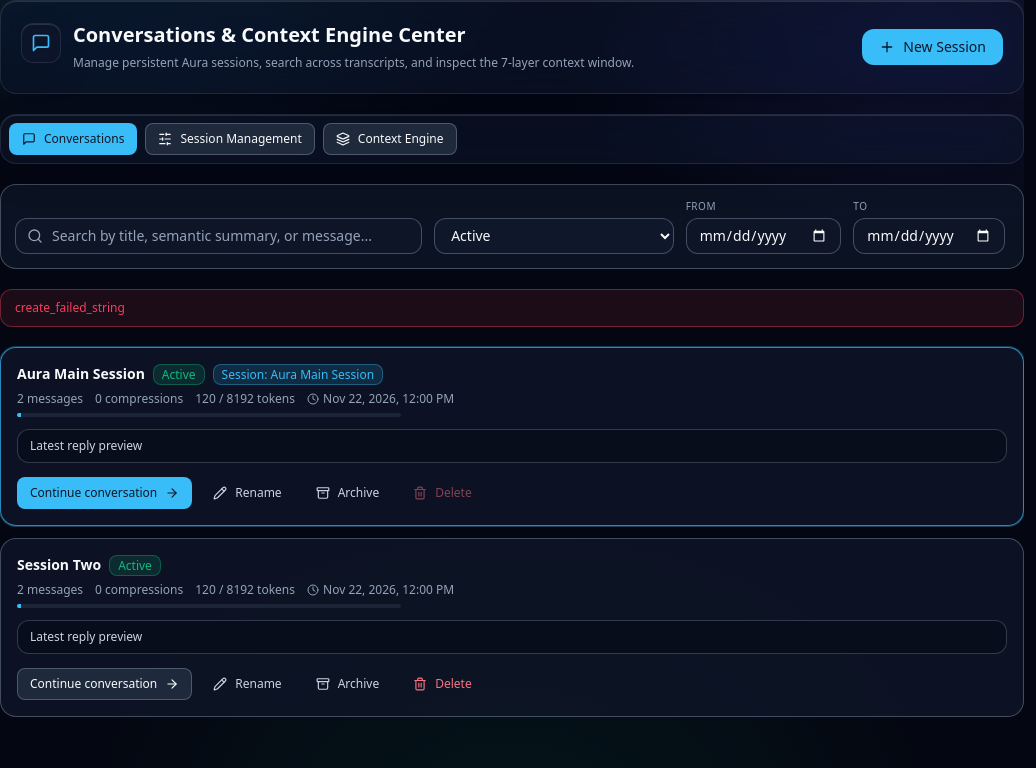
Test: SessionsCenterPage › removes archived session from active-filtered list and handles mutation/load errors cleanly
Earlier steps of the test are not shown.
Expected: the message reads "create_failed_string", x1=15 y1=298 x2=125 y2=316
Step 1. Click the button with test id "session-rename-s-2" → (248, 684), box x1=200 y1=668 x2=295 y2=700
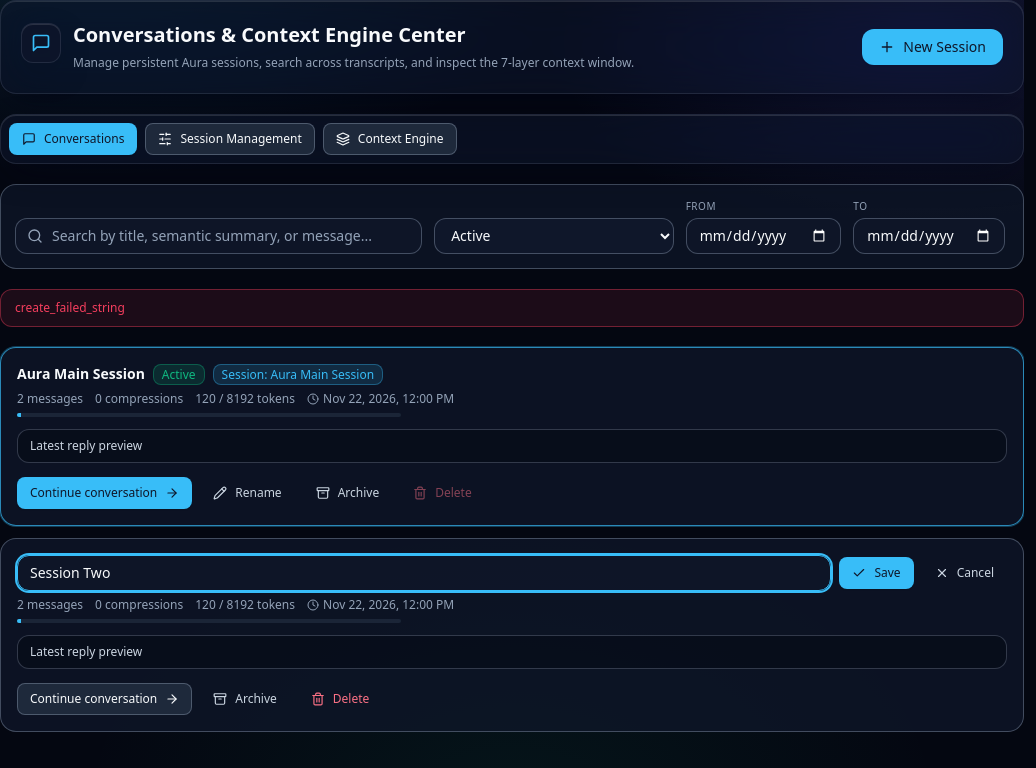
Step 2. Replace the text in the field with test id "session-rename-input-s-2" with "Bad Name" → (424, 572), box x1=17 y1=554 x2=832 y2=590
Step 3. Click the button with test id "session-rename-save-s-2" → (877, 572), box x1=840 y1=556 x2=914 y2=588
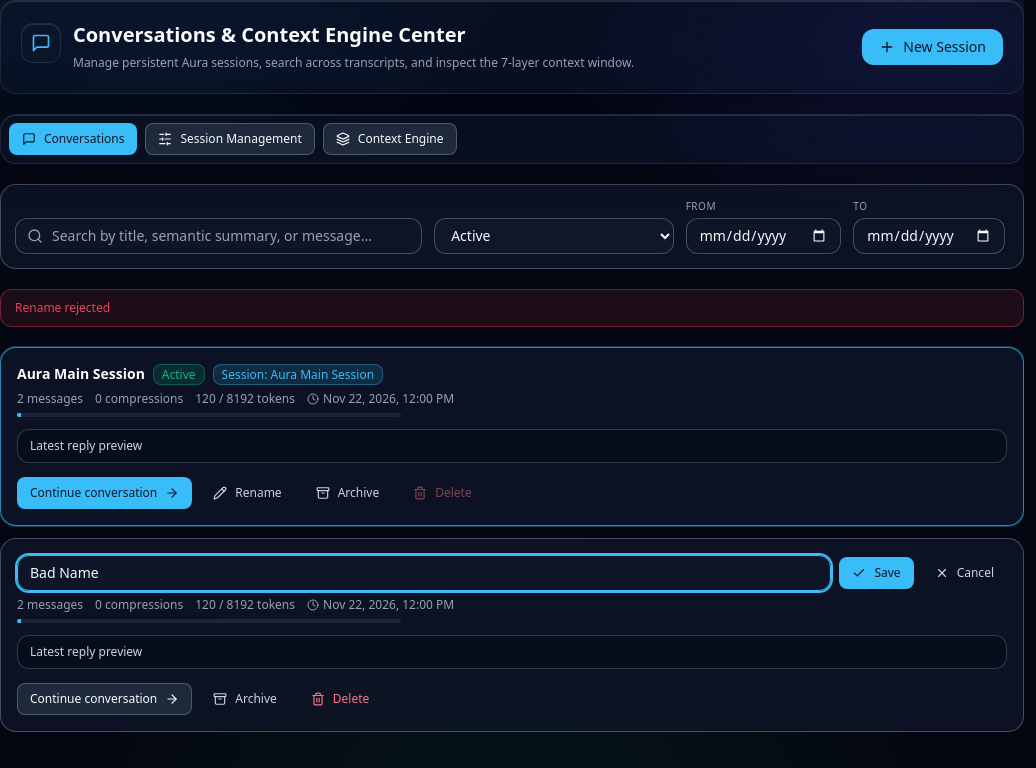
Expected: the message reads "Rename rejected", x1=15 y1=298 x2=110 y2=316
Step 4. Click the button with test id "session-rename-cancel-s-2" → (964, 572), box x1=922 y1=556 x2=1007 y2=588
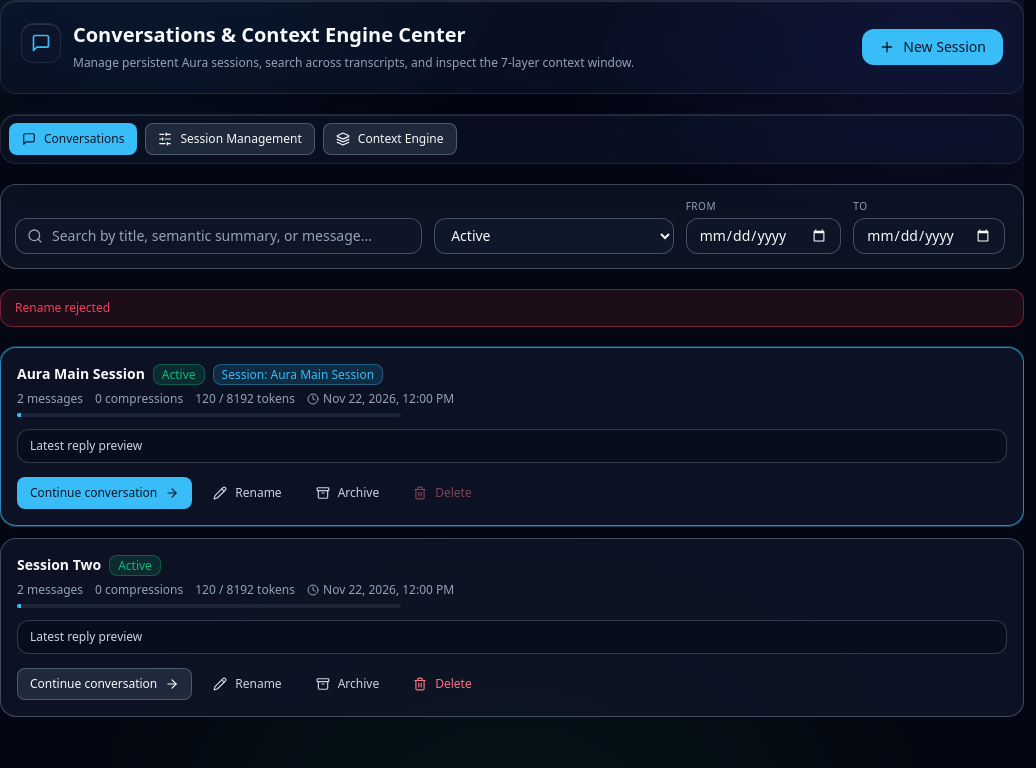
Step 5. Click the button with test id "session-status-s-2" → (347, 684), box x1=303 y1=668 x2=392 y2=700
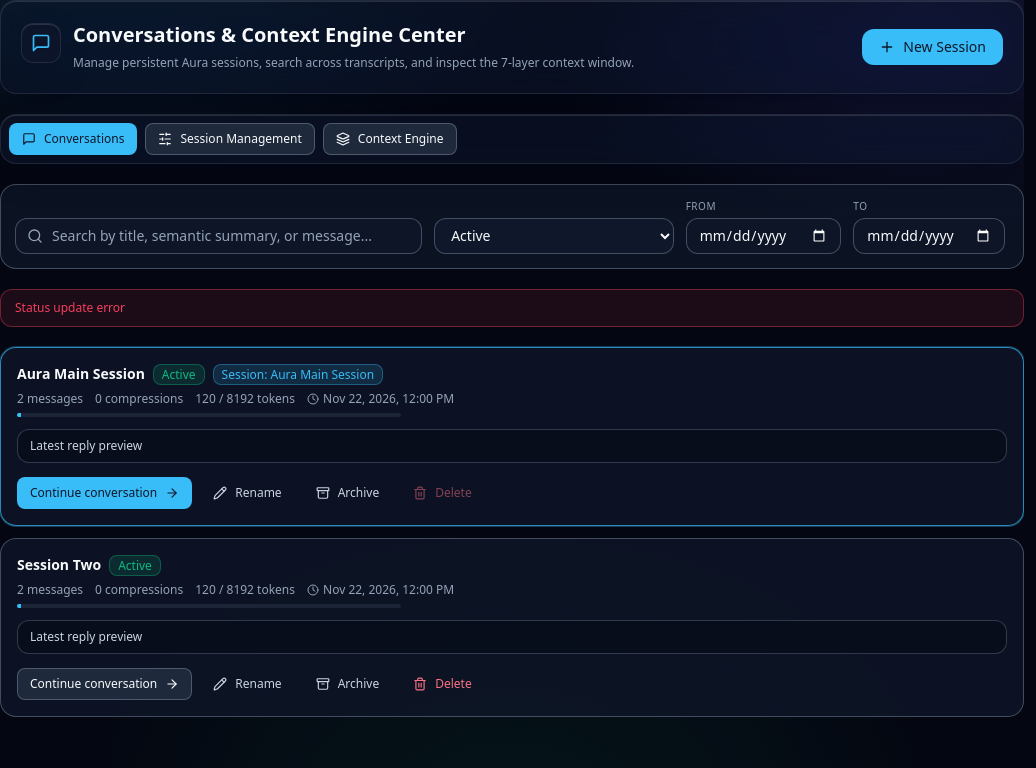
Expected: the message reads "Status update error", x1=15 y1=298 x2=125 y2=316
Step 6. Click the button with test id "session-delete-s-2" → (442, 684), box x1=400 y1=668 x2=485 y2=700
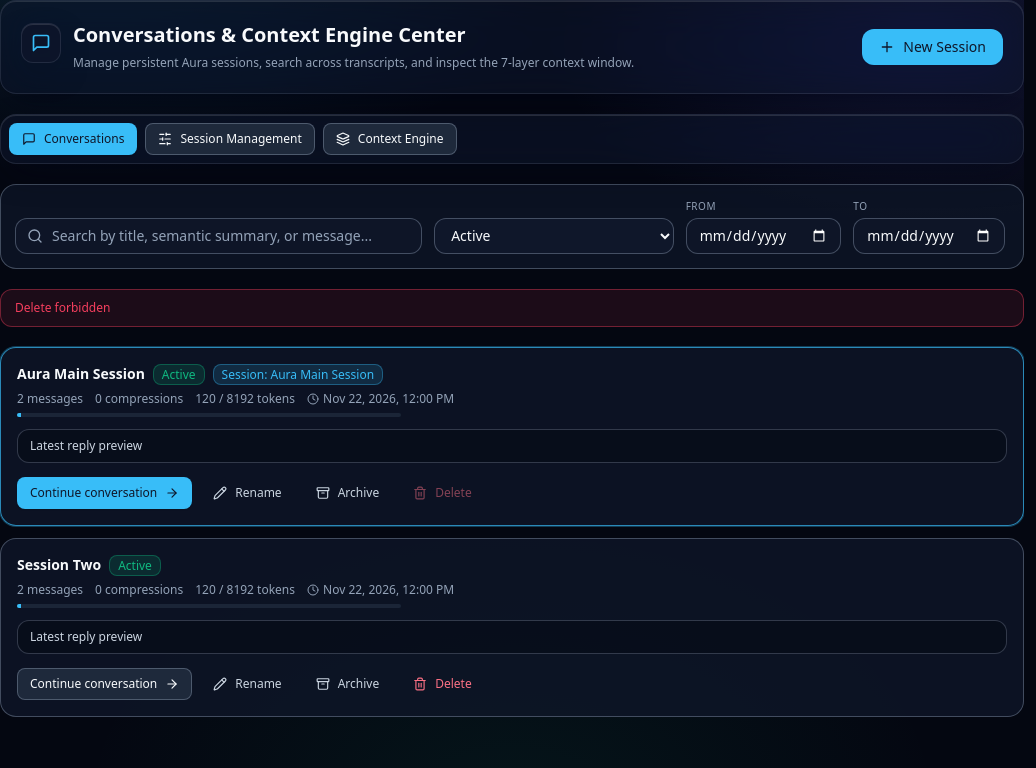
Expected: the message reads "Delete forbidden", x1=15 y1=298 x2=110 y2=316
Step 7. Click the button with test id "session-status-s-2" → (347, 684), box x1=303 y1=668 x2=392 y2=700
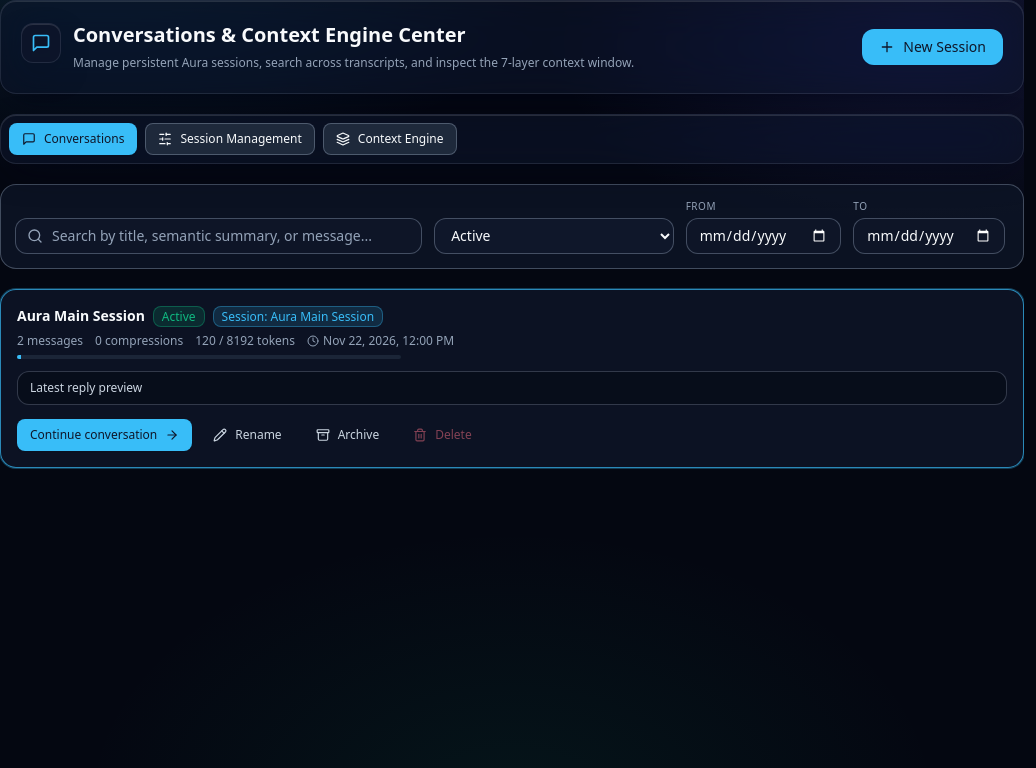
Expected: the element with test id "session-card-s-2" is gone
